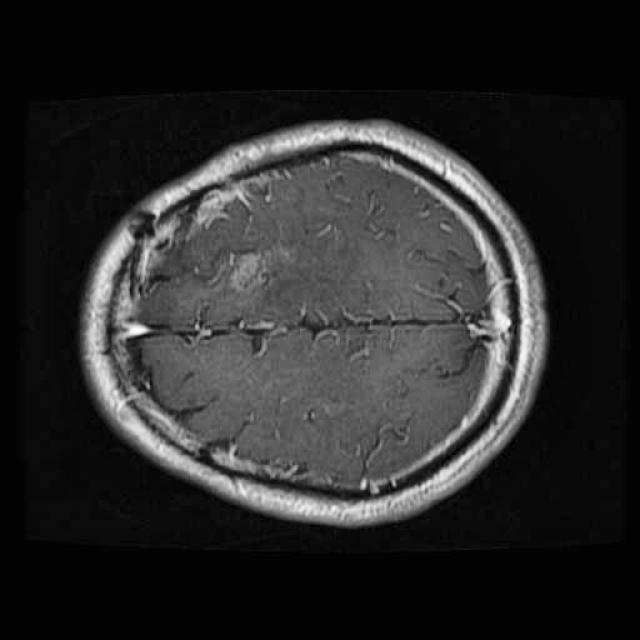Non-Tumor: (206, 231, 285, 305)
